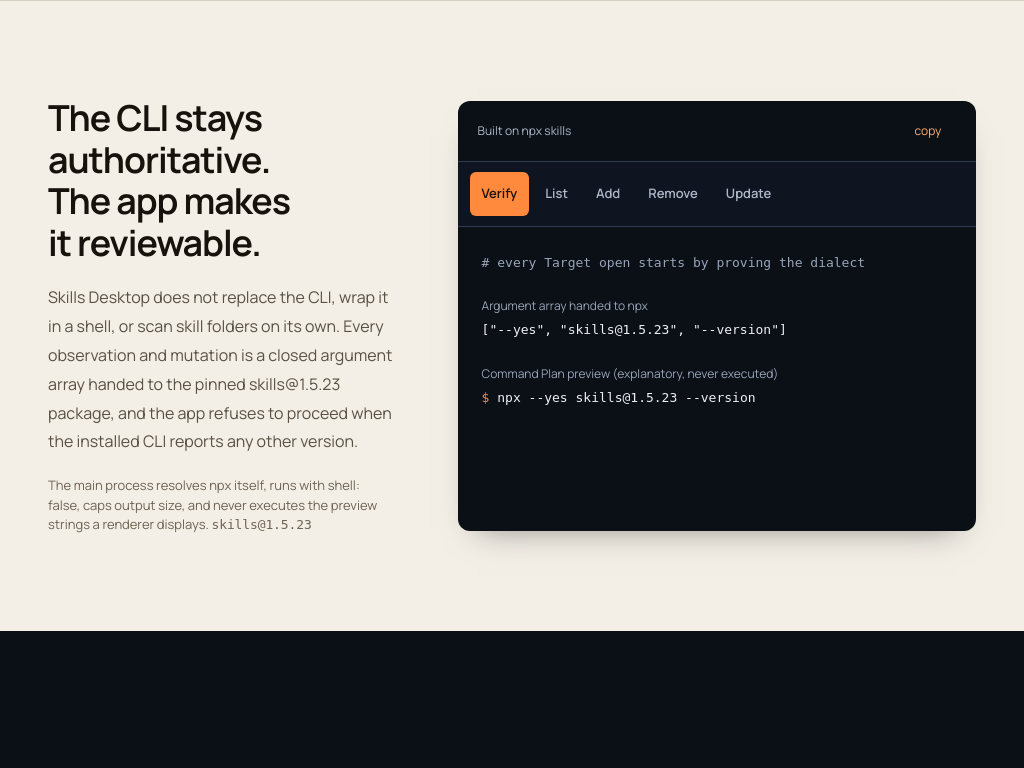
Test: CliSection › shows the verify example first and switches tabs
What coordinates should you click on to do the following:
click the tab "Add"
I would click on:
 (608, 194)
Its box is [584, 172, 632, 216].
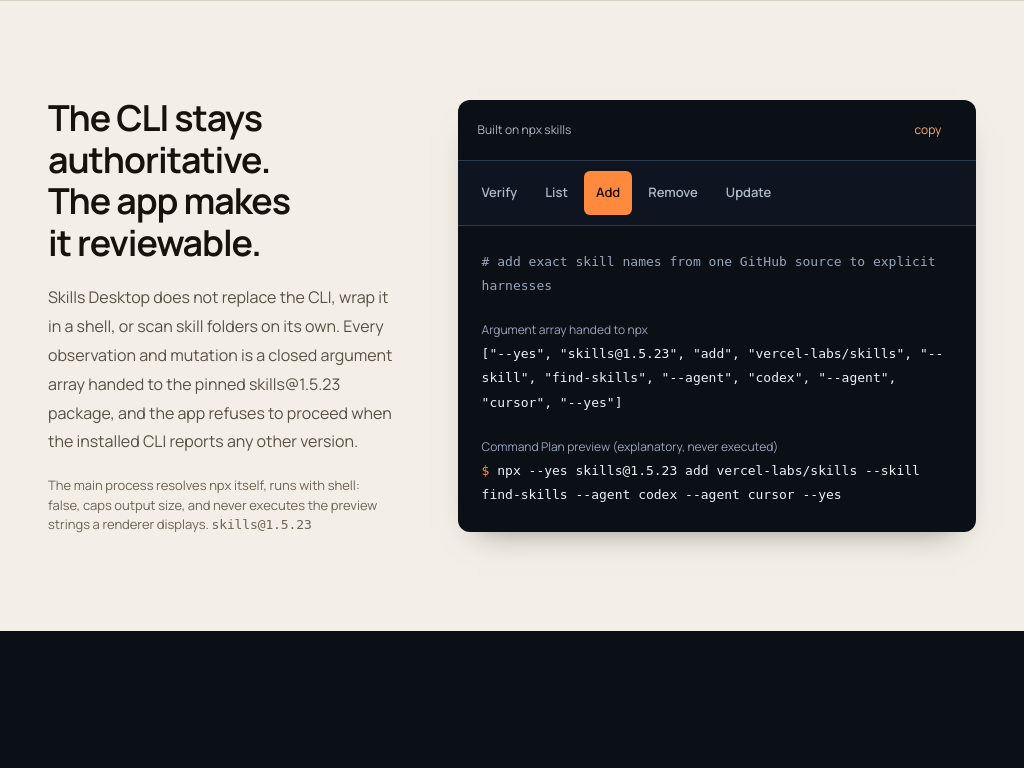
Expected: the text "# add exact skill names from one GitHub source to explicit harnesses" is shown, [482, 250, 952, 299]
